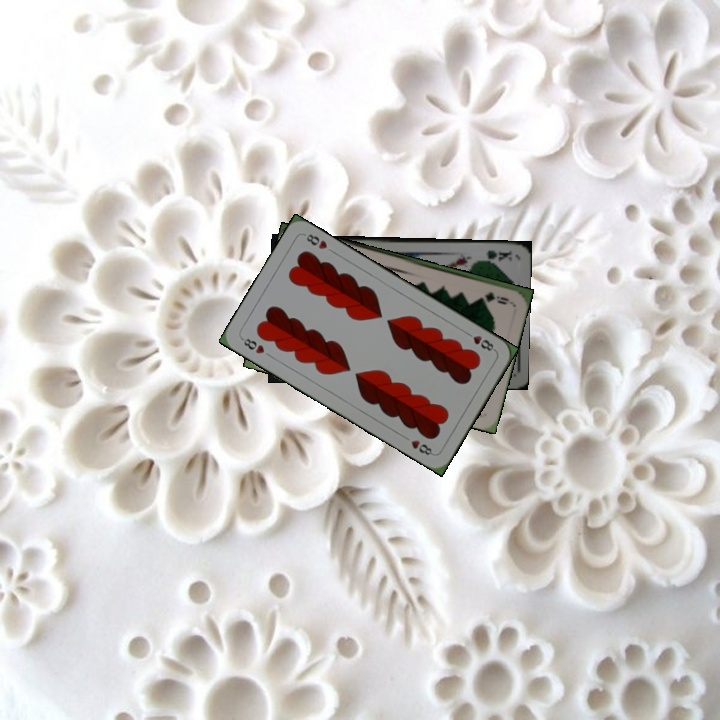G9: (480, 288, 512, 306)
GK: (482, 246, 514, 263)
H8: (461, 328, 498, 354), (237, 334, 267, 357)
